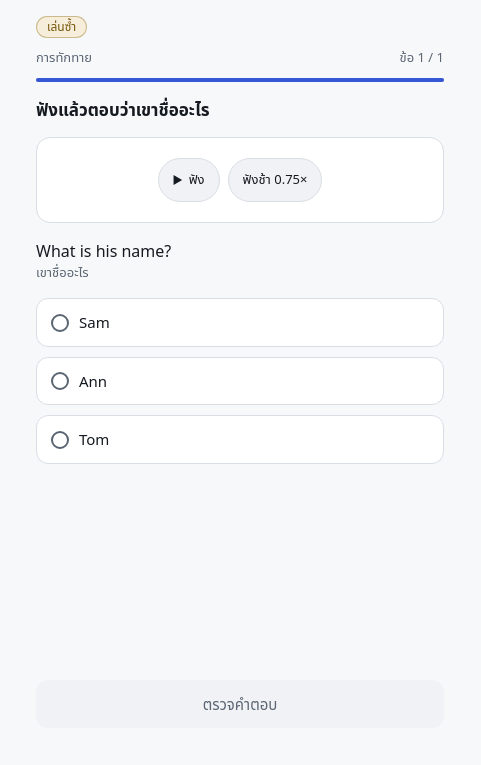
it: LessonPlayer in practice mode › shows the local score and a queued note while the result is queued
Click the radio button labelled "Sam" at x=94, y=322, box [36,298,444,347]
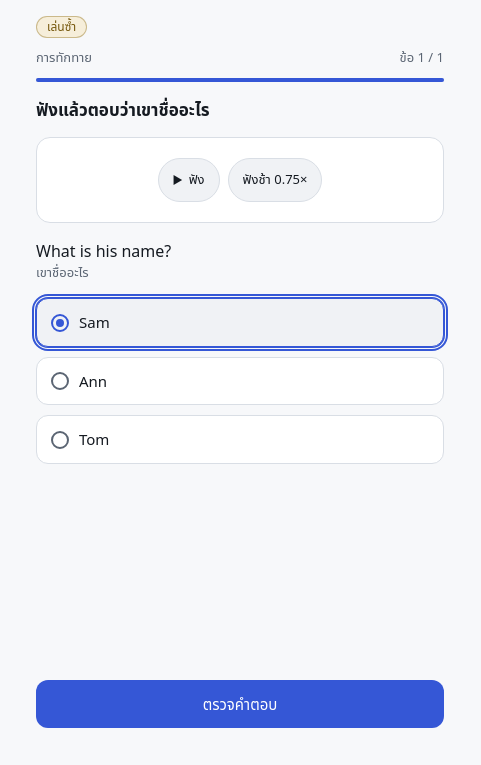
Click the button "ตรวจคำตอบ" at x=240, y=704, box [36,680,444,728]
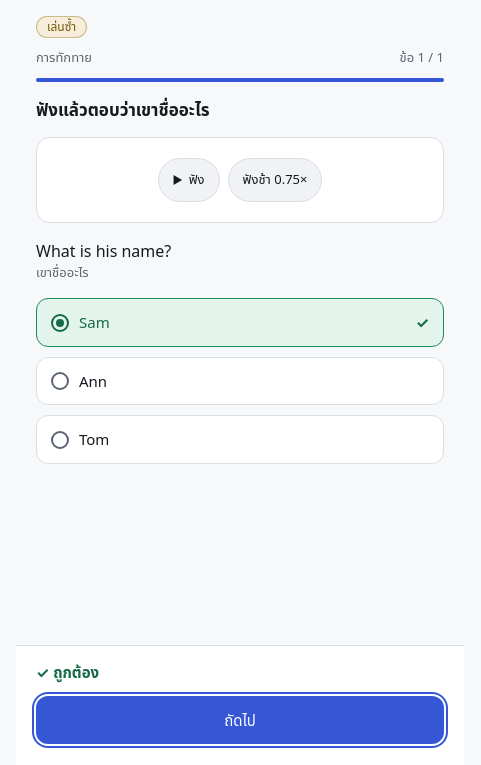
Click the button "ถัดไป" at x=240, y=720, box [36,696,444,744]
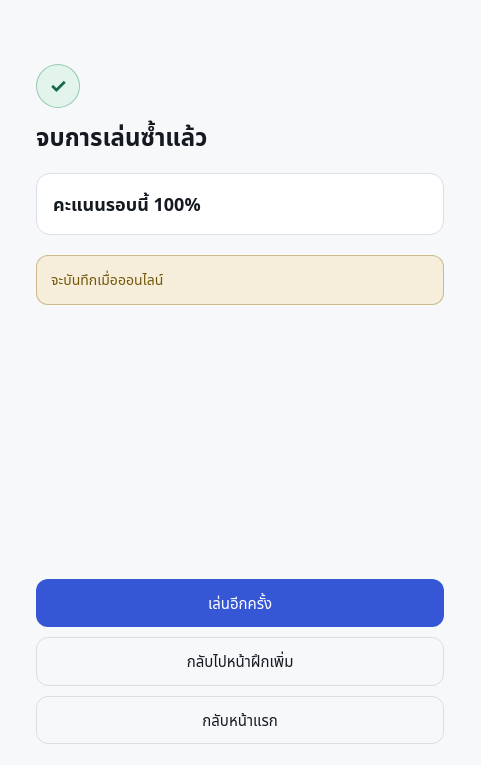
Now the text "จะบันทึกเมื่อออนไลน์" is shown, box [36,255,444,305]
Now the text "คะแนนรอบนี้ 100%" is shown, box [53,192,201,216]
